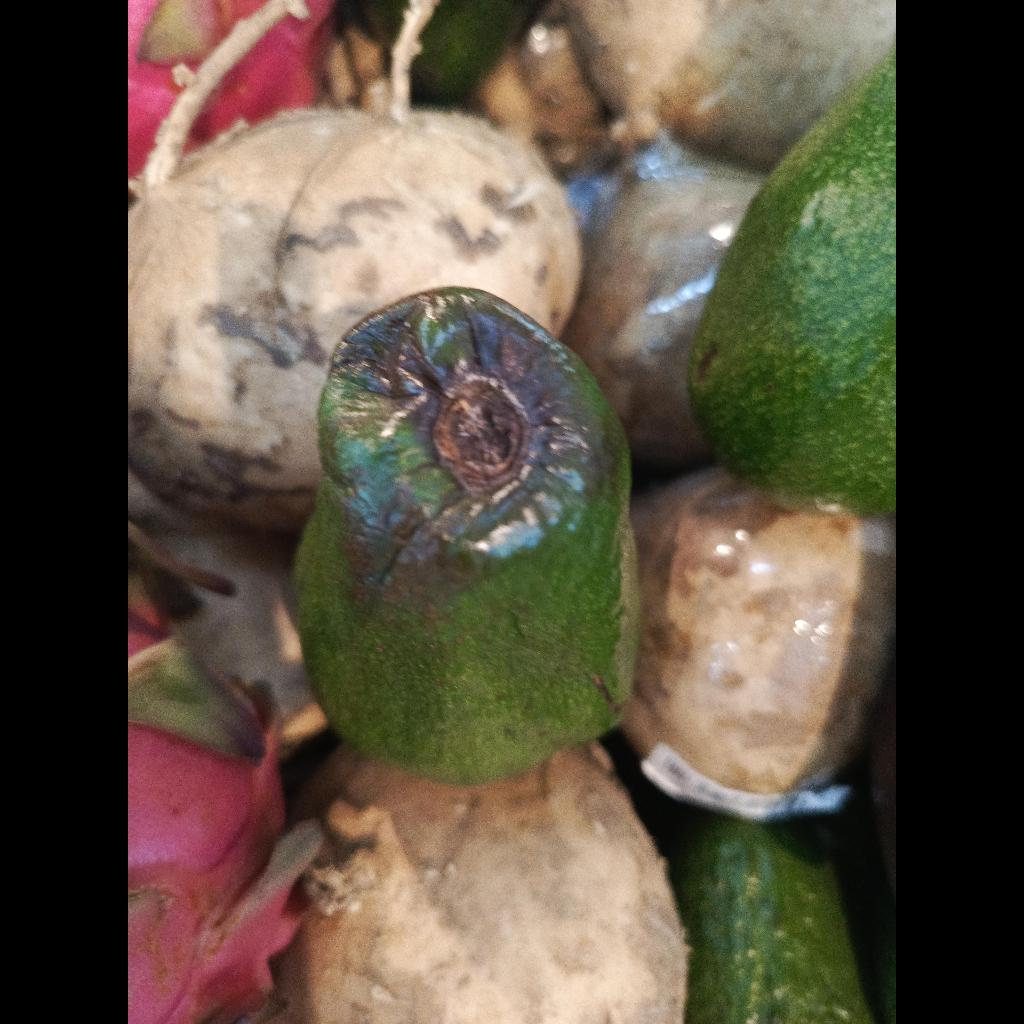stem end rot: (296, 287, 638, 783)
